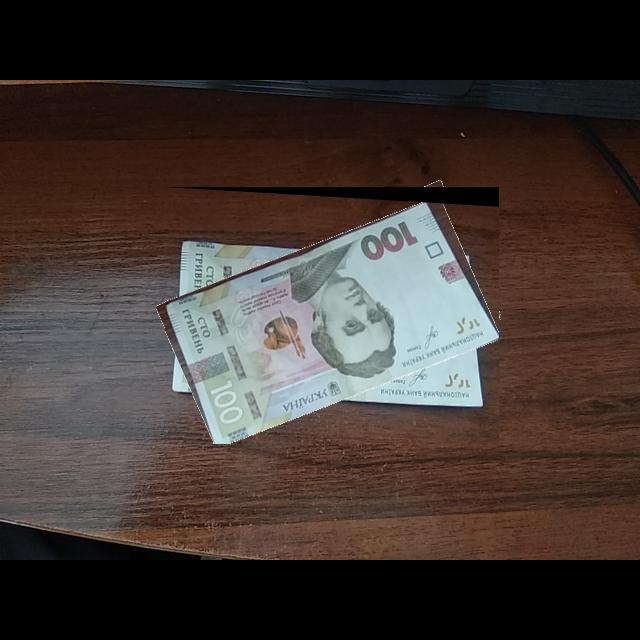100uah: (166, 199, 500, 445)
